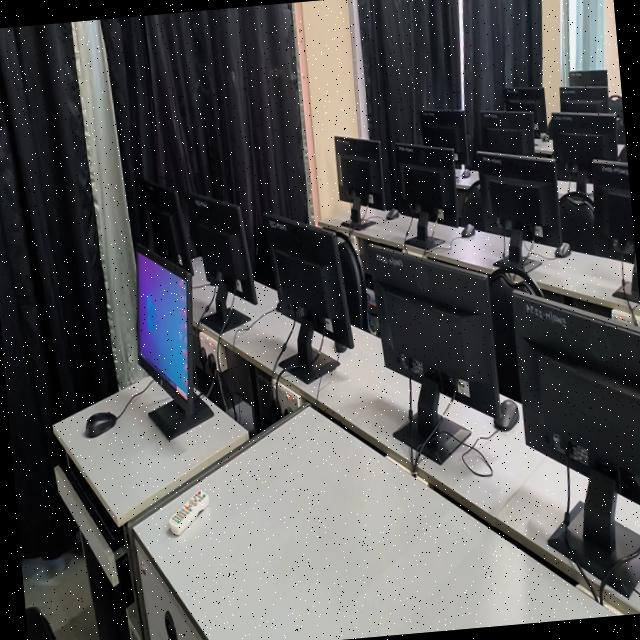Monitor: (366, 243, 510, 440), (511, 291, 640, 477), (261, 212, 353, 370), (136, 243, 193, 415), (187, 192, 256, 330), (475, 151, 560, 245), (394, 142, 456, 246), (547, 112, 616, 189), (142, 180, 192, 273), (333, 134, 385, 222), (592, 158, 635, 254), (418, 109, 467, 168), (475, 109, 533, 154), (503, 85, 546, 131), (558, 84, 612, 112), (568, 69, 607, 86)
Mouse: (84, 411, 115, 436), (493, 397, 517, 428), (554, 241, 570, 256), (460, 222, 474, 236), (384, 207, 399, 219), (460, 166, 469, 177)
